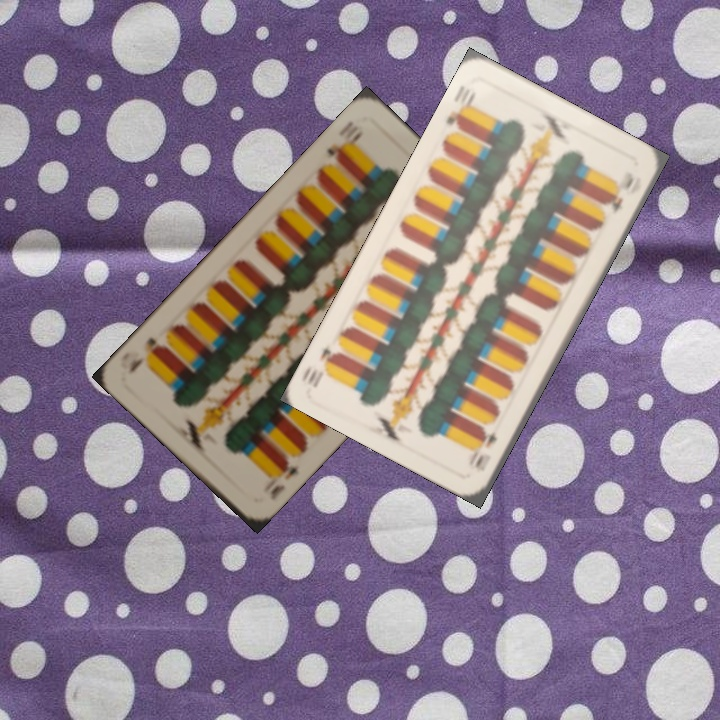E10: (322, 116, 366, 165), (266, 452, 302, 503), (441, 87, 477, 133), (470, 427, 500, 475)
